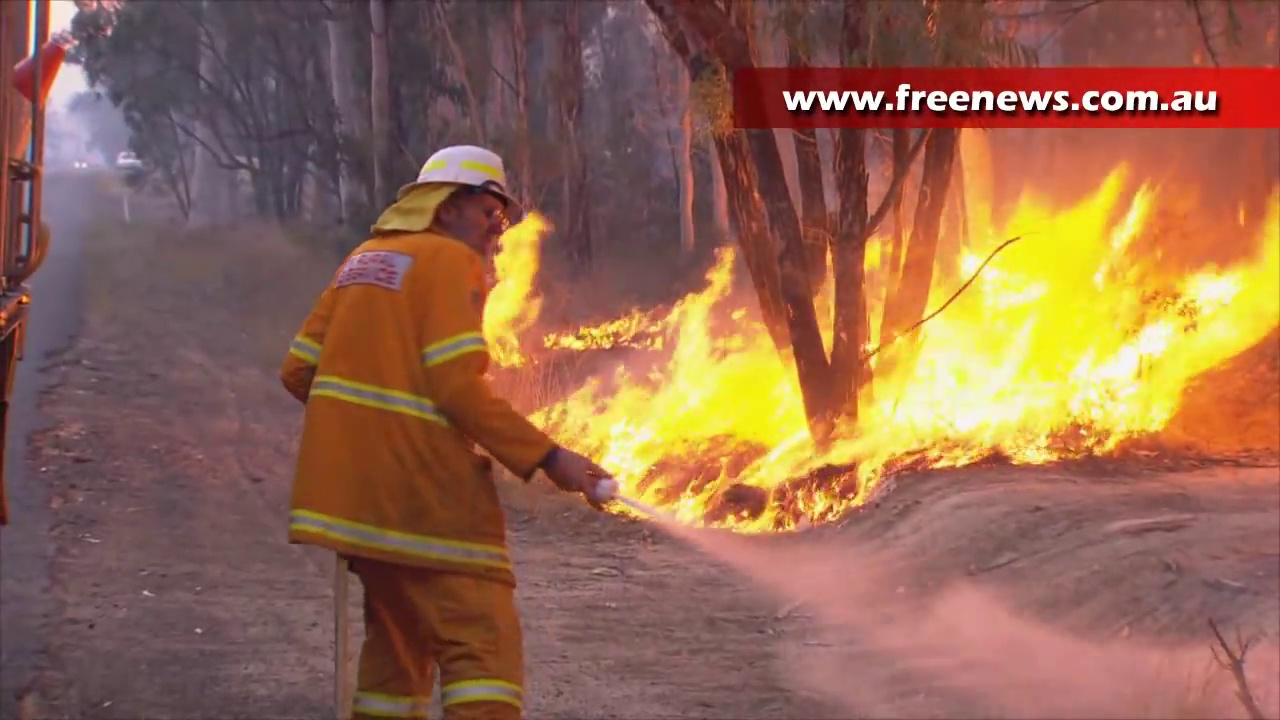fire: (554, 173, 1280, 530), (486, 213, 548, 366)
